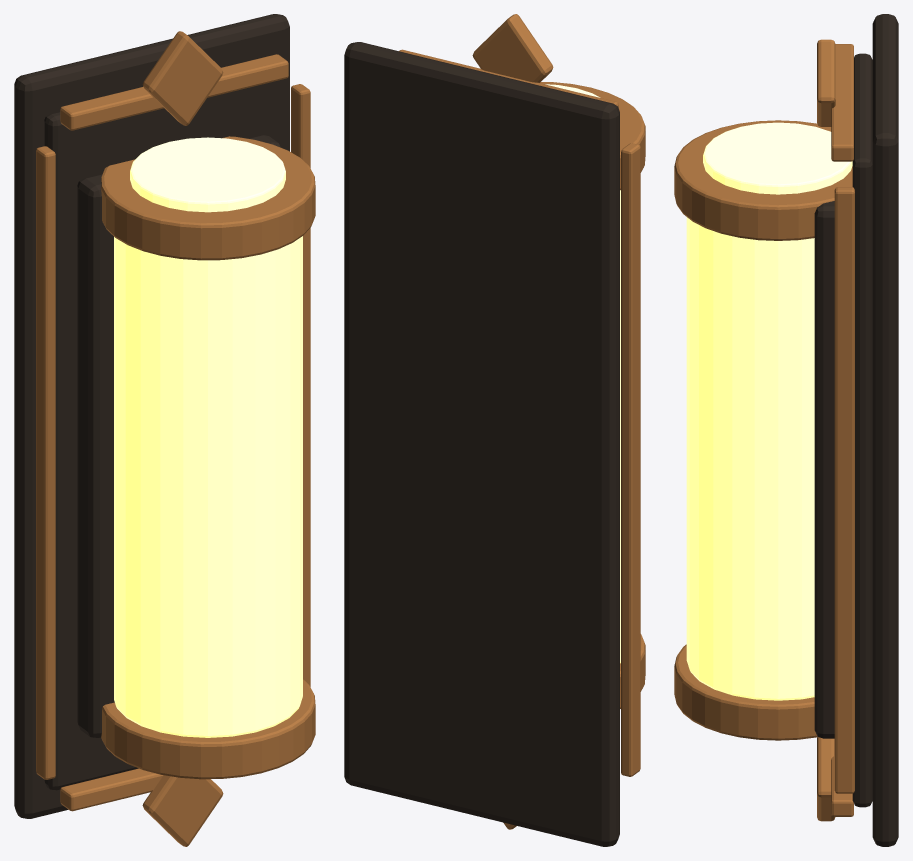
Rendered from CasinoWallLamp.fbx.
3 views of the same model, side by side, from view 1: azimuth 30°, elevation 25°; view 2: azimuth 150°, elevation 25°; view 3: azimuth 270°, elevation 25° (orthographic). The views are drawn at different scales.
Visible parts, largest first — view 1: CasinoLamp_Geometry; view 2: CasinoLamp_Geometry; view 3: CasinoLamp_Geometry.
Part boxes in pixels (x1,y1,x2,y2): CasinoLamp_Geometry: (14, 14, 315, 846); CasinoLamp_Geometry: (344, 14, 645, 846); CasinoLamp_Geometry: (674, 14, 898, 846).
Bounding box in the file's own units: 42 × 120 × 31.3.
